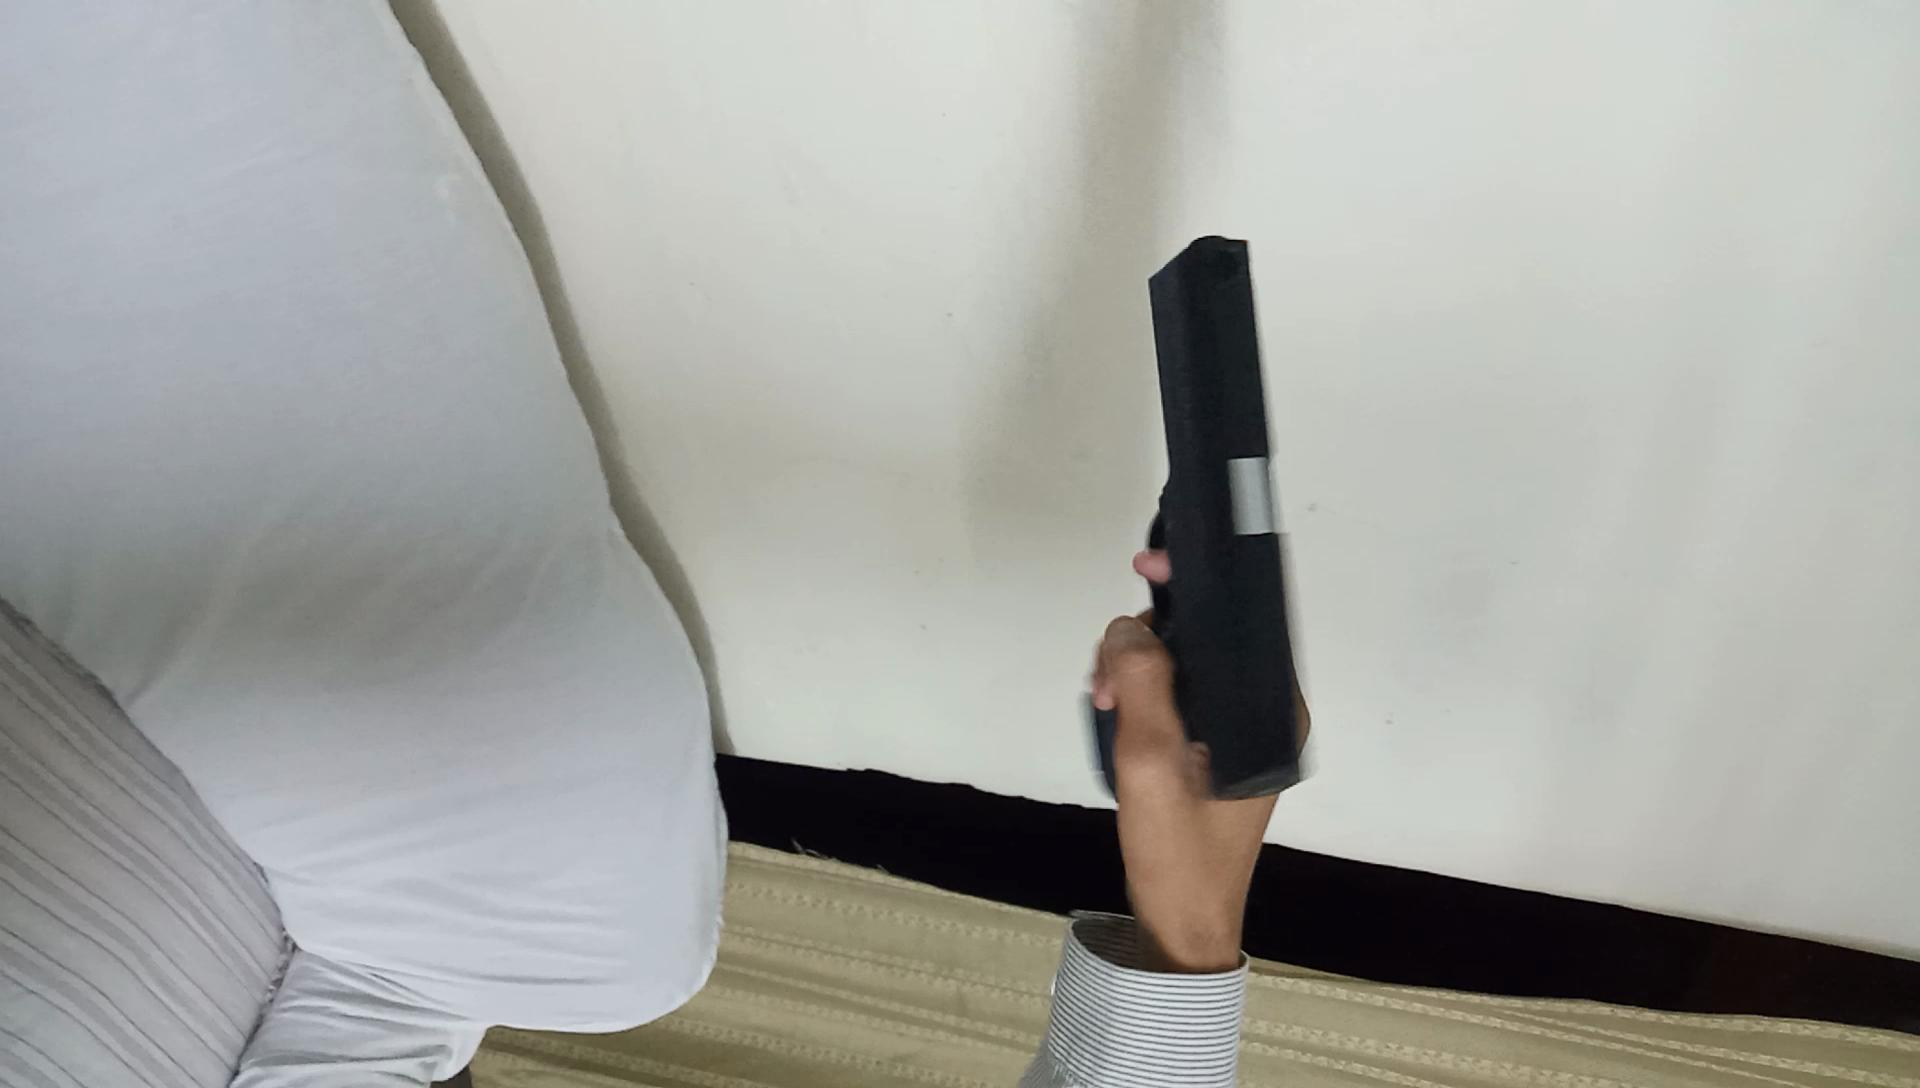weapon: (1075, 222, 1317, 819)
